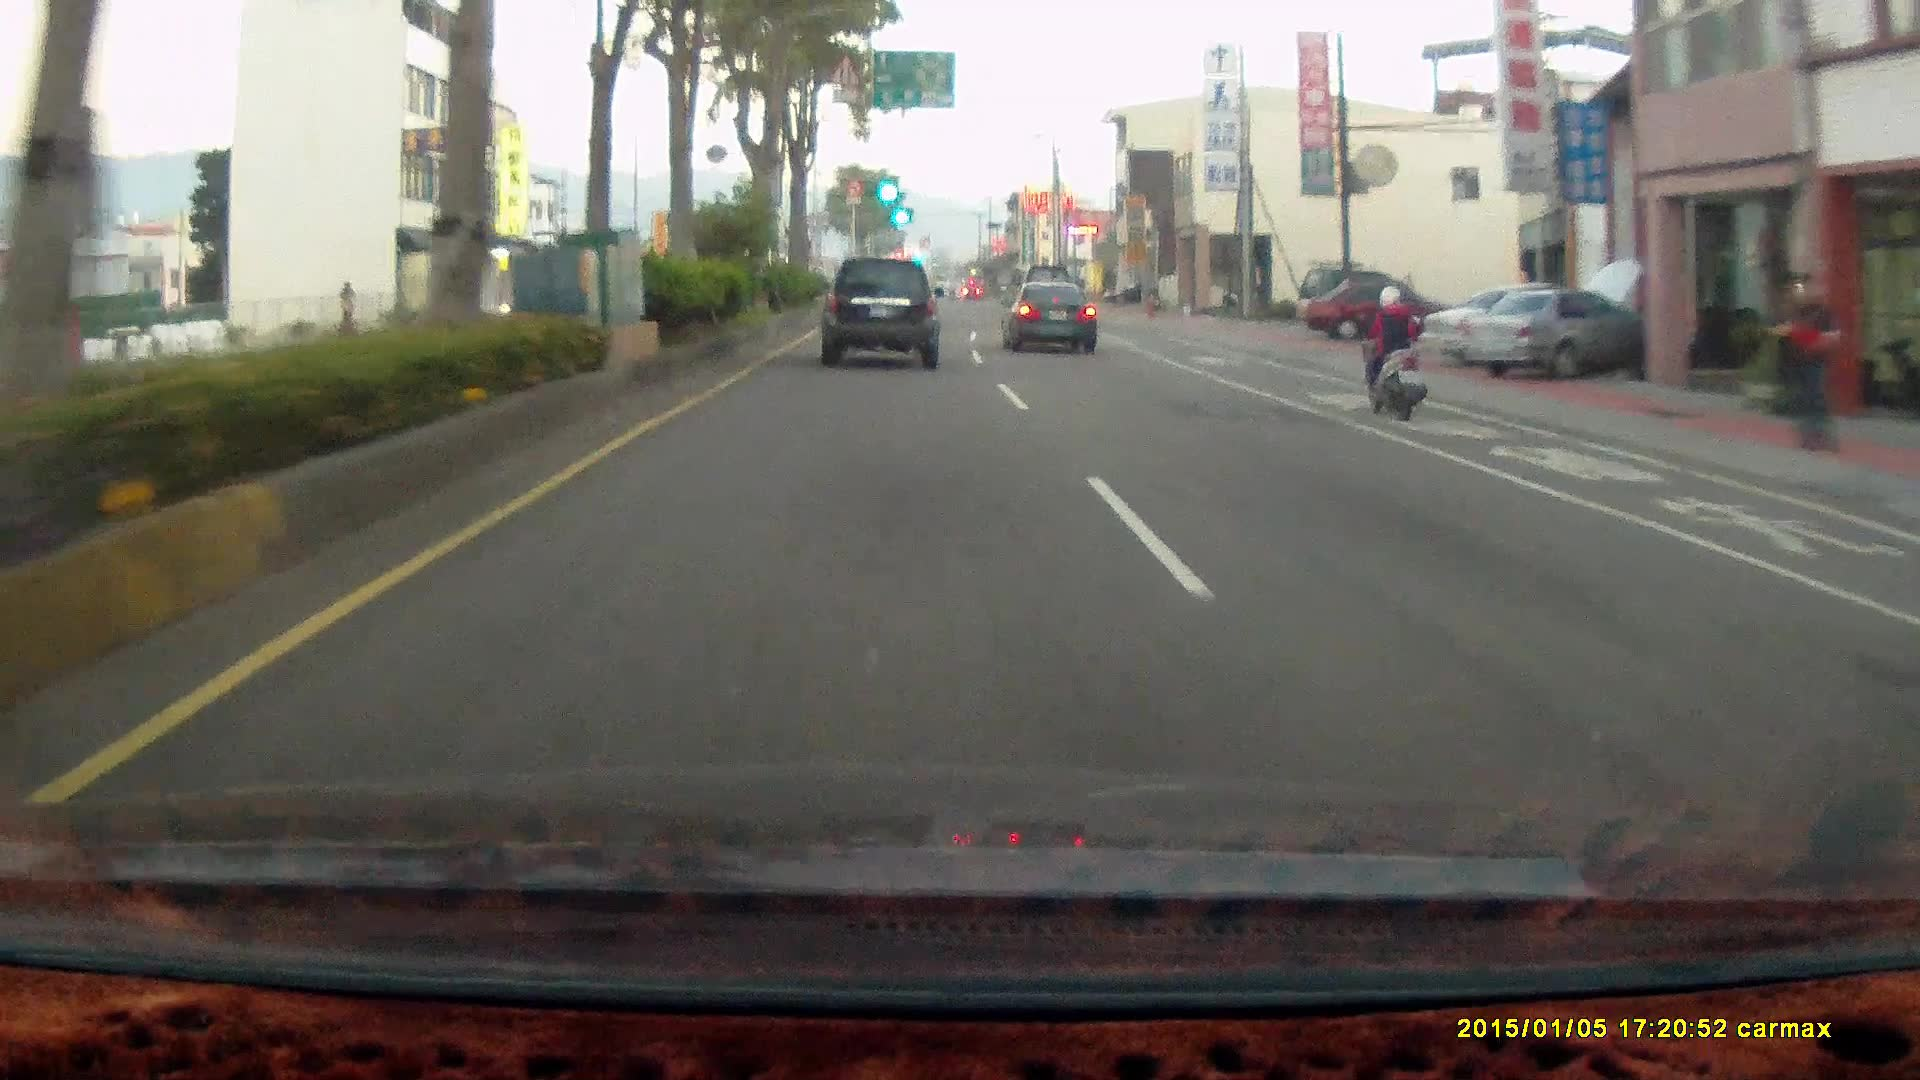pedestrian: (1769, 271, 1850, 457)
rider: (1349, 273, 1437, 429), (1355, 286, 1426, 422)
vehicle: (1459, 288, 1649, 380), (818, 260, 948, 373), (818, 260, 943, 368), (1299, 278, 1451, 345), (1300, 279, 1451, 344), (1000, 280, 1098, 352), (1005, 282, 1103, 355), (1105, 284, 1159, 307)
